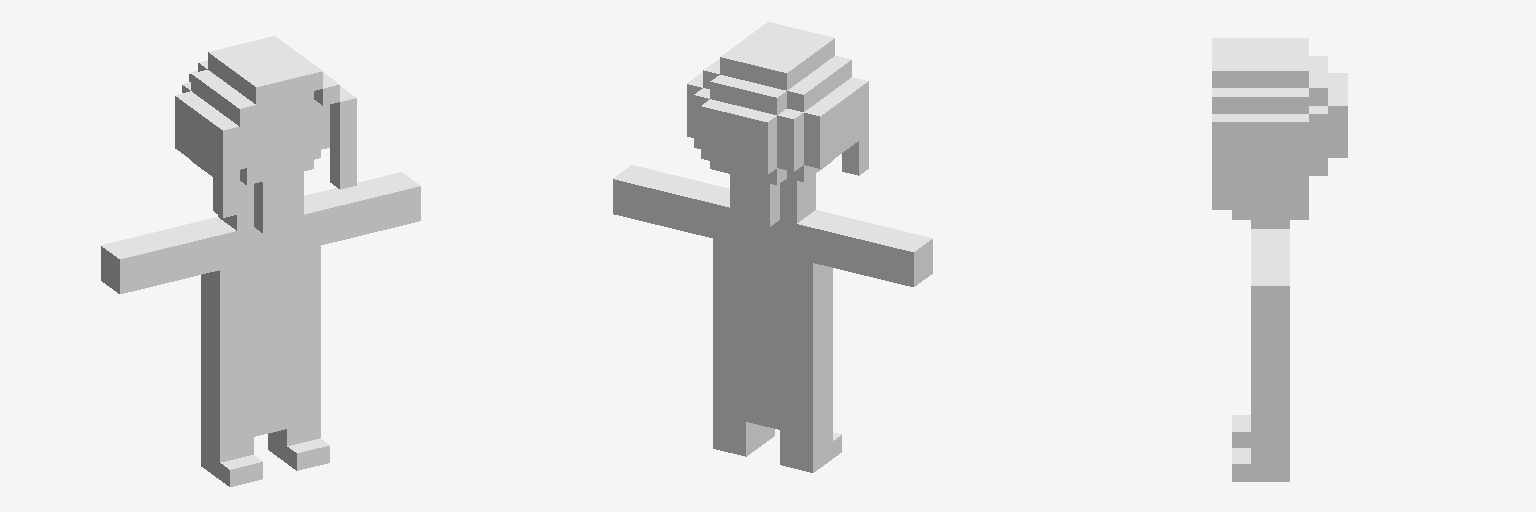
Rendered from mother.obj.
The picture shows the model from 3 angles: view 1: azimuth 30°, elevation 25°; view 2: azimuth 150°, elevation 25°; view 3: azimuth 270°, elevation 25°; orthographic projection.
Parts seen in each view (by area): view 1: object 1; view 2: object 1; view 3: object 1.
Part boxes in pixels (x1,y1,x2,y2): object 1: (101,36,420,486); object 1: (613,22,932,472); object 1: (1212,38,1347,481).
Bounding box in the file's own units: 1.8 × 2.3 × 0.7.